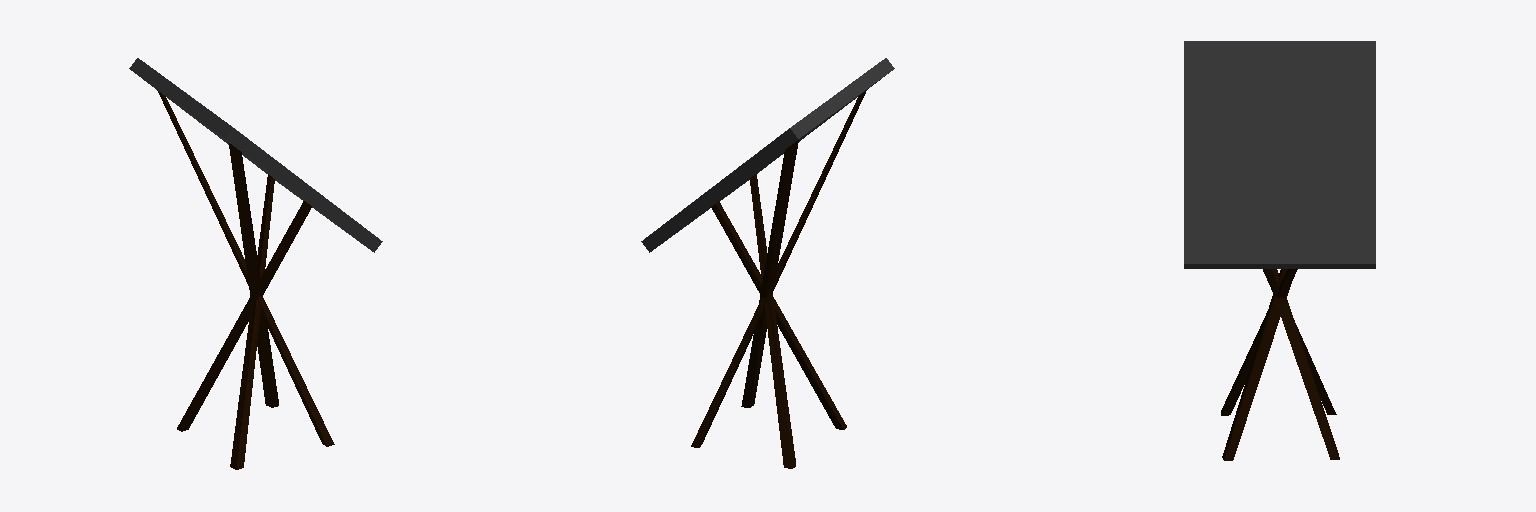
File: StickLectern.obj
3 renders of one model, left to right at view 1: azimuth 30°, elevation 25°; view 2: azimuth 150°, elevation 25°; view 3: azimuth 270°, elevation 25°, orthographic.
Visible parts, largest first — view 1: Cube; view 2: Cube; view 3: Cube.
Part boxes in pixels (left/top/right/bottom): Cube: left=129, top=58, right=382, bottom=469; Cube: left=641, top=58, right=894, bottom=468; Cube: left=1184, top=41, right=1375, bottom=460.
Size of the model in its own units: 0.8836 by 1.94 by 0.9369.